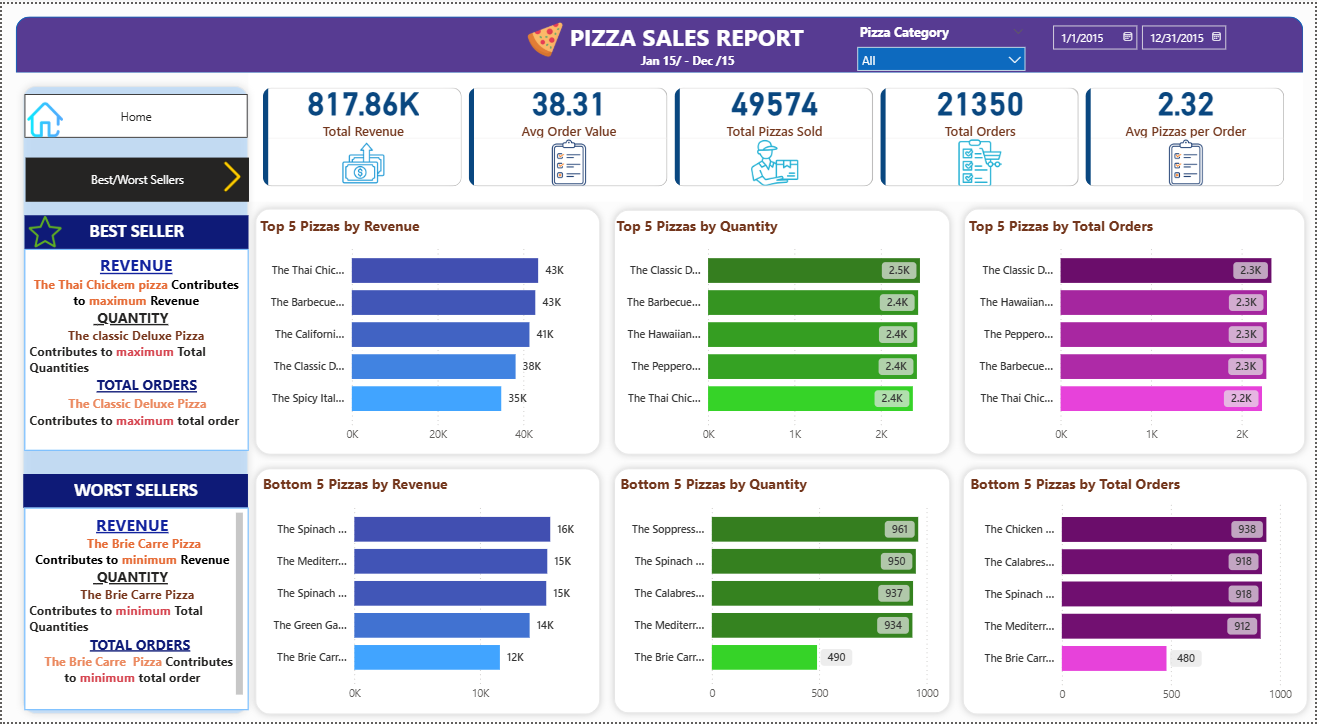

The dashboard page shown, as its layout file describes it:
{"tool":"powerbi","page":{"name":"Best/Worst Sellers","canvas":[1500,820],"ordinal":1},"visuals":[{"type":"cardVisual","fields":{"Data":["pizza_sales.Total Revenue","pizza_sales.Avg Order Value","pizza_sales.Total Pizzas Sold","pizza_sales.Total Orders","pizza_sales.Avg Pizzas per Order"]},"box":[281.4,78.6,1205.7,147.1],"z":0},{"type":"shape","box":[15,86.2,273.8,733.8],"z":1000},{"type":"shape","box":[15.7,14.3,1471.4,64.3],"z":2000},{"type":"textbox","box":[631.2,13.8,302.5,47.5],"z":3000},{"type":"textbox","box":[715,50,138.8,28.8],"z":4000},{"type":"image","box":[600,17.5,41.2,47.5],"z":5000},{"type":"shape","box":[281.4,225.7,410,297.1],"z":6000},{"type":"textbox","box":[25,241.2,256.2,38.8],"z":7000},{"type":"textbox","box":[25.7,280,255.7,230],"z":8000},{"type":"textbox","box":[24.3,537.1,257.1,38.6],"z":9000},{"type":"textbox","box":[25.7,575.7,255.7,231.4],"z":10000},{"type":"slicer","fields":{"Values":["pizza_sales.pizza_category"]},"box":[967.5,17.5,212.5,61.2],"z":11000},{"type":"slicer","fields":{"Values":["pizza_sales.order_date"]},"box":[1188.8,13.8,218.8,65],"z":12000},{"type":"shape","box":[691.4,227.1,400,295.7],"z":13000},{"type":"shape","box":[1091.4,225.7,405.7,297.1],"z":14000},{"type":"shape","box":[281.4,522.9,410,297.1],"z":15000},{"type":"shape","box":[1090,522.9,410,297.1],"z":16000},{"type":"shape","box":[691.4,522.9,400,295.7],"z":17000},{"type":"barChart","title":"Top 5 Pizzas by Revenue","fields":{"Category":["pizza_sales.pizza_name"],"Y":["pizza_sales.Total Revenue"]},"box":[290,241.4,388.6,268.6],"z":18000},{"type":"barChart","title":"Bottom 5 Pizzas by Revenue","fields":{"Category":["pizza_sales.pizza_name"],"Y":["pizza_sales.Total Revenue"]},"box":[292.9,537.1,388.6,268.6],"z":19000},{"type":"barChart","title":"Top 5 Pizzas by  Quantity","fields":{"Category":["pizza_sales.pizza_name"],"Y":["pizza_sales.Total Pizzas Sold"]},"box":[697.1,241.4,388.6,268.6],"z":20000},{"type":"barChart","title":"Bottom 5 Pizzas by  Quantity","fields":{"Category":["pizza_sales.pizza_name"],"Y":["pizza_sales.Total Pizzas Sold"]},"box":[701.4,537.1,388.6,268.6],"z":21000},{"type":"barChart","title":"Top 5 Pizzas by  Total Orders","fields":{"Category":["pizza_sales.pizza_name"],"Y":["pizza_sales.Total Orders"]},"box":[1100,241.4,388.6,268.6],"z":22000},{"type":"barChart","title":"Bottom 5 Pizzas by Total Orders","fields":{"Category":["pizza_sales.pizza_name"],"Y":["pizza_sales.Total Orders"]},"box":[1101.4,537.1,388.6,270],"z":23000},{"type":"pageNavigator","box":[27.5,176.2,255,50],"z":24000},{"type":"pageNavigator","box":[25,102.5,255,50],"z":25000},{"type":"image","box":[245,176.2,35,43.8],"z":26000},{"type":"image","box":[26.2,111.2,47.5,41.2],"z":27000},{"type":"image","box":[26.2,241.2,47.5,37.5],"z":28000}]}

Visuals, with their boxes in screenshot pixels (x1, y1, x2, y2), scaled from the page's 1500x820 canvas onto the 1317x724 screenshot:
cardVisual - pizza_sales.Total Revenue x pizza_sales.Avg Order Value: [247,69,1306,199]
shape: [13,76,254,723]
shape: [14,13,1306,69]
textbox: [554,12,820,54]
textbox: [628,44,750,70]
image: [527,15,563,57]
shape: [247,199,607,462]
textbox: [22,213,247,247]
textbox: [23,247,247,450]
textbox: [21,474,247,508]
textbox: [23,508,247,713]
slicer - pizza_sales.pizza_category: [849,15,1036,69]
slicer - pizza_sales.order_date: [1044,12,1236,70]
shape: [607,201,958,462]
shape: [958,199,1314,462]
shape: [247,462,607,723]
shape: [957,462,1316,723]
shape: [607,462,958,723]
"Top 5 Pizzas by Revenue" barChart: [255,213,596,450]
"Bottom 5 Pizzas by Revenue" barChart: [257,474,598,711]
"Top 5 Pizzas by  Quantity" barChart: [612,213,953,450]
"Bottom 5 Pizzas by  Quantity" barChart: [616,474,957,711]
"Top 5 Pizzas by  Total Orders" barChart: [966,213,1307,450]
"Bottom 5 Pizzas by Total Orders" barChart: [967,474,1308,713]
pageNavigator: [24,156,248,200]
pageNavigator: [22,90,246,135]
image: [215,156,246,194]
image: [23,98,65,135]
image: [23,213,65,246]
